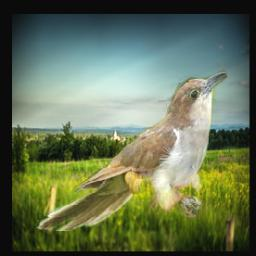Cuckoo: (36, 70, 227, 231)
